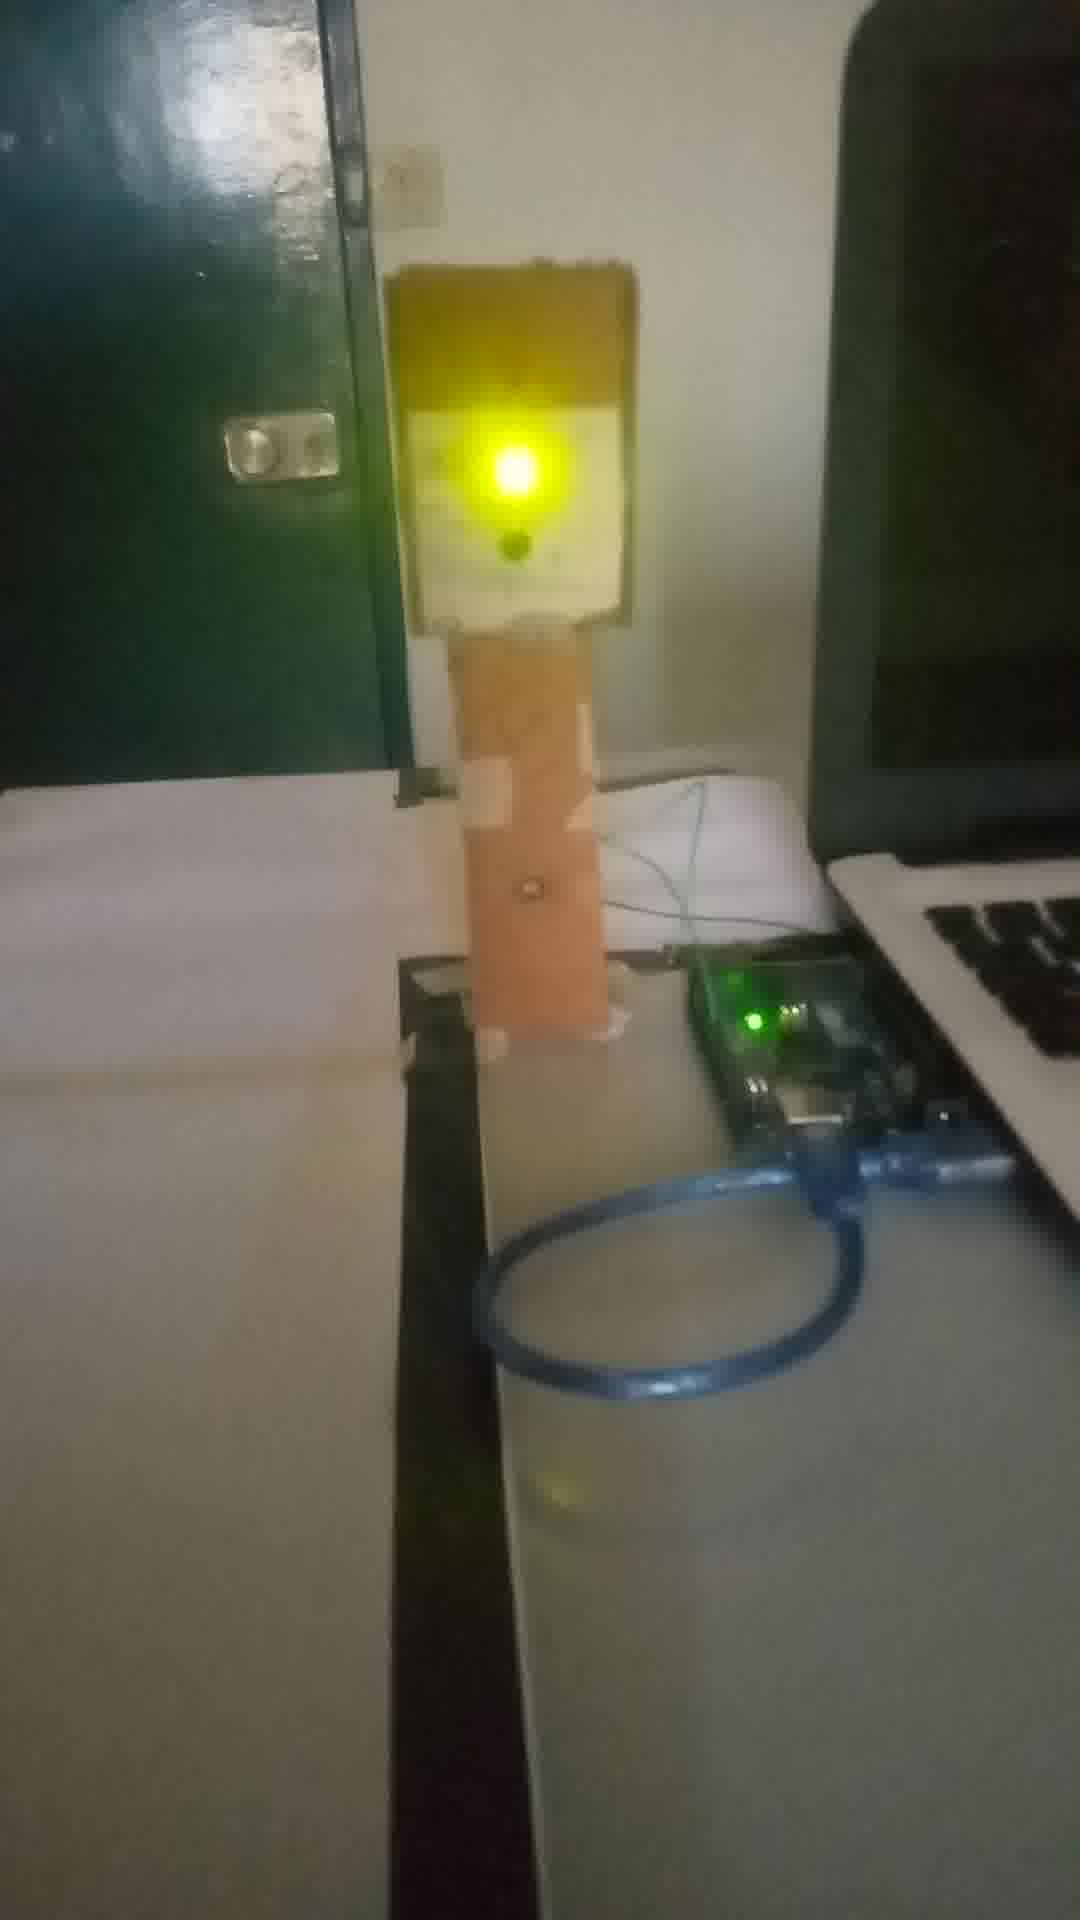yellow: (386, 251, 626, 637)
